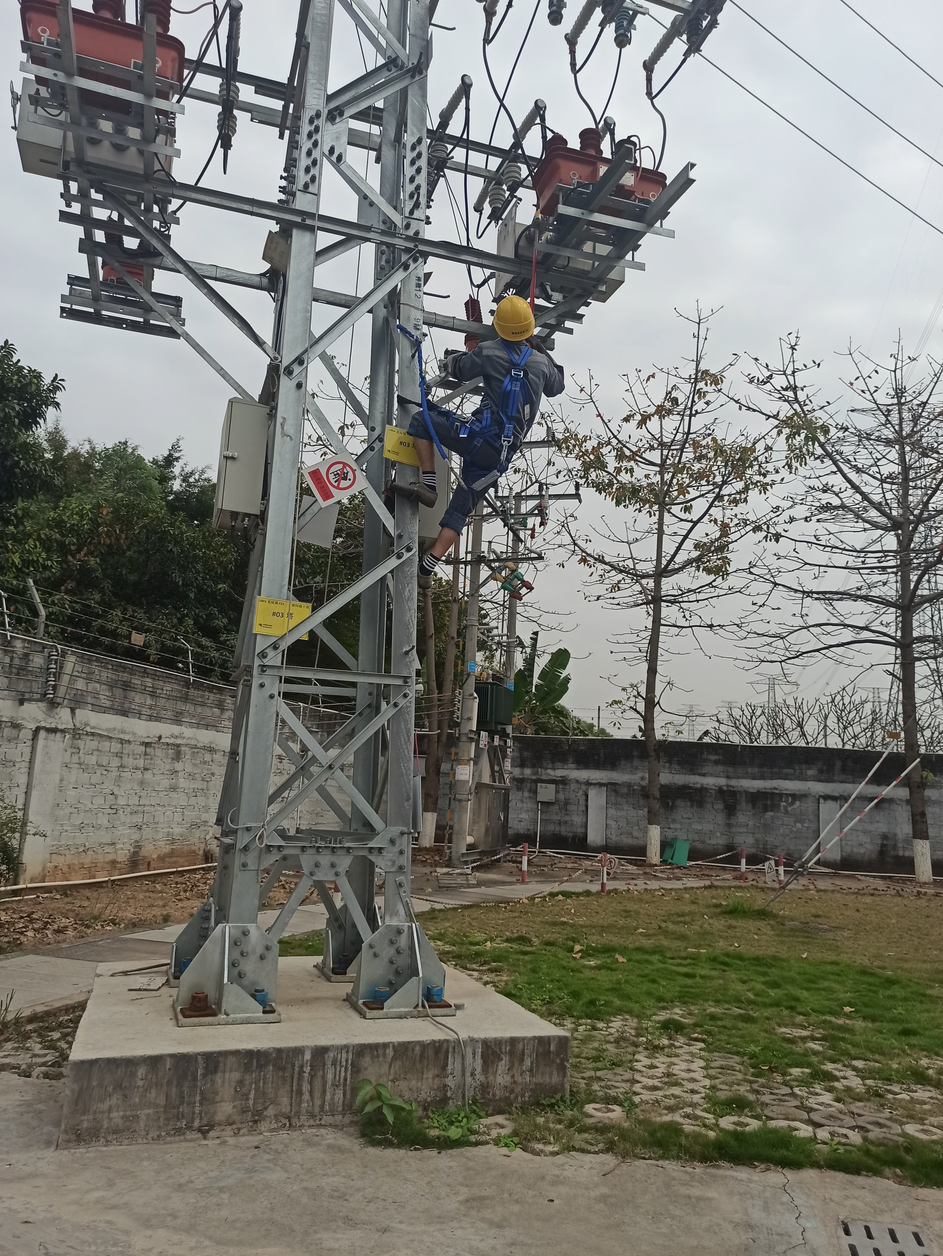绝缘操作杆: (529, 209, 541, 318)
